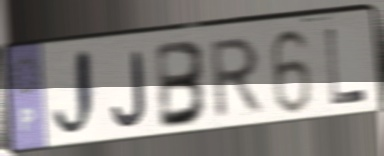6: (270, 25, 314, 118)
B: (155, 38, 210, 132)
J: (50, 46, 100, 146), (109, 48, 149, 129)
L: (323, 26, 369, 109)
R: (209, 34, 267, 123)
